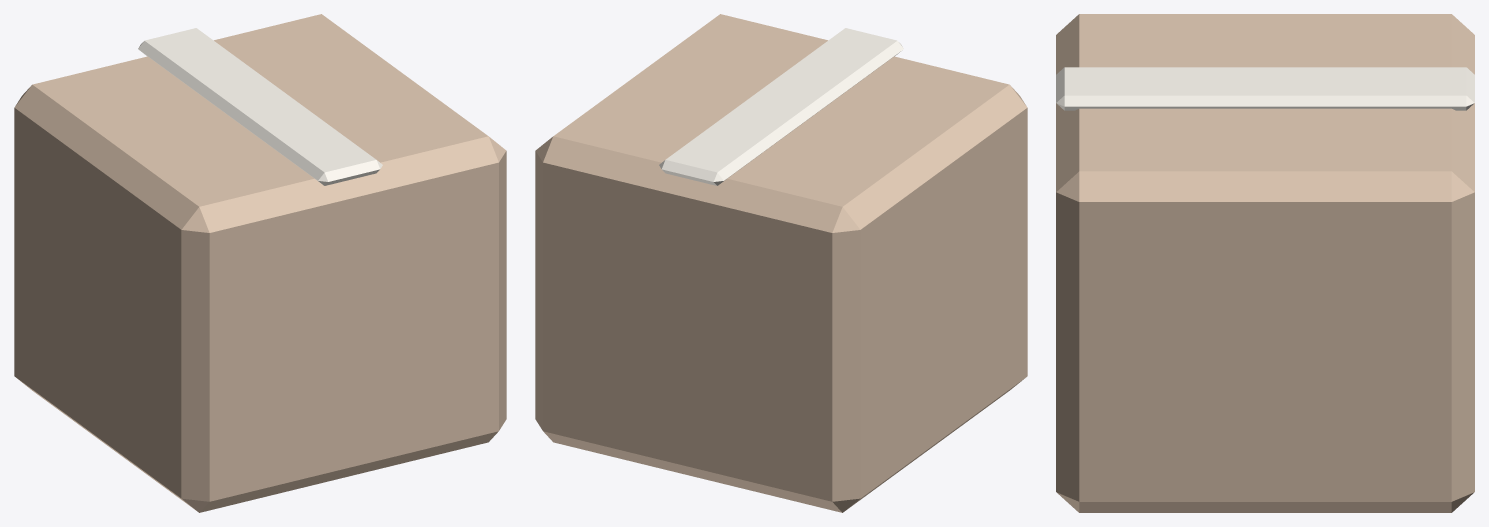
Rendered from crate.glb.
The picture shows the model from 3 angles, left to right: view 1: azimuth 30°, elevation 25°; view 2: azimuth 150°, elevation 25°; view 3: azimuth 270°, elevation 25°; orthographic projection. The views are drawn at different scales.
Parts seen in each view (by area): view 1: box.001, tape.001; view 2: box.001, tape.001; view 3: box.001, tape.001.
Part boxes in pixels (x1,y1,x2,y2): box.001: (14, 14, 506, 512); tape.001: (138, 28, 382, 185); box.001: (535, 14, 1027, 512); tape.001: (659, 28, 903, 185); box.001: (1056, 14, 1474, 512); tape.001: (1056, 67, 1474, 110).
Size of the model in its own units: 1 by 0.93 by 1.
